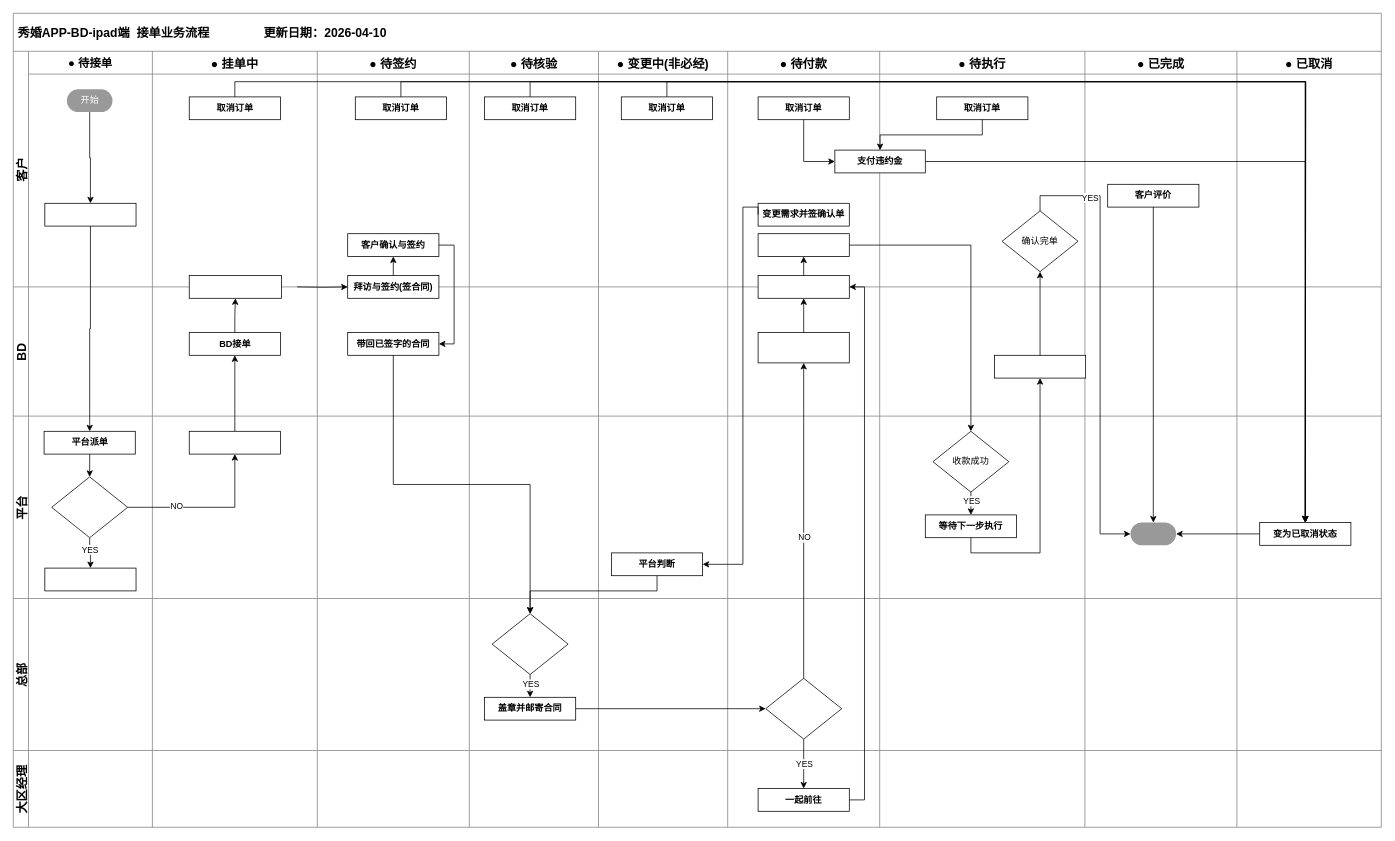
The diagram is 1395 pixels wide and 841 high, and some of its shapes have lost their labels. Here are the shapes that lost their labels. From the top down, the centre of each, then its label:
(90,214): 客户下单 (支付定金)
(803,244): 客户确认与付款
(235,286): 沟通与确认需求
(803,286): 拜访与收款
(803,347): 申请借用 POS机/打印机
(1040,366): 完成订单
(234,442): 等待接单
(89,507): 超过30分钟 未接单
(1153,533): 结束
(90,579): 指派给其他BD
(529,643): 核验通过
(803,708): 超过10万
